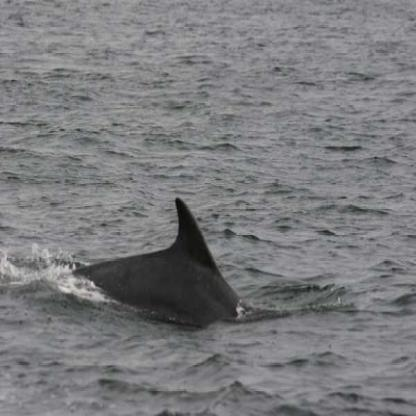dolphin-whale: (62, 188, 246, 327)
